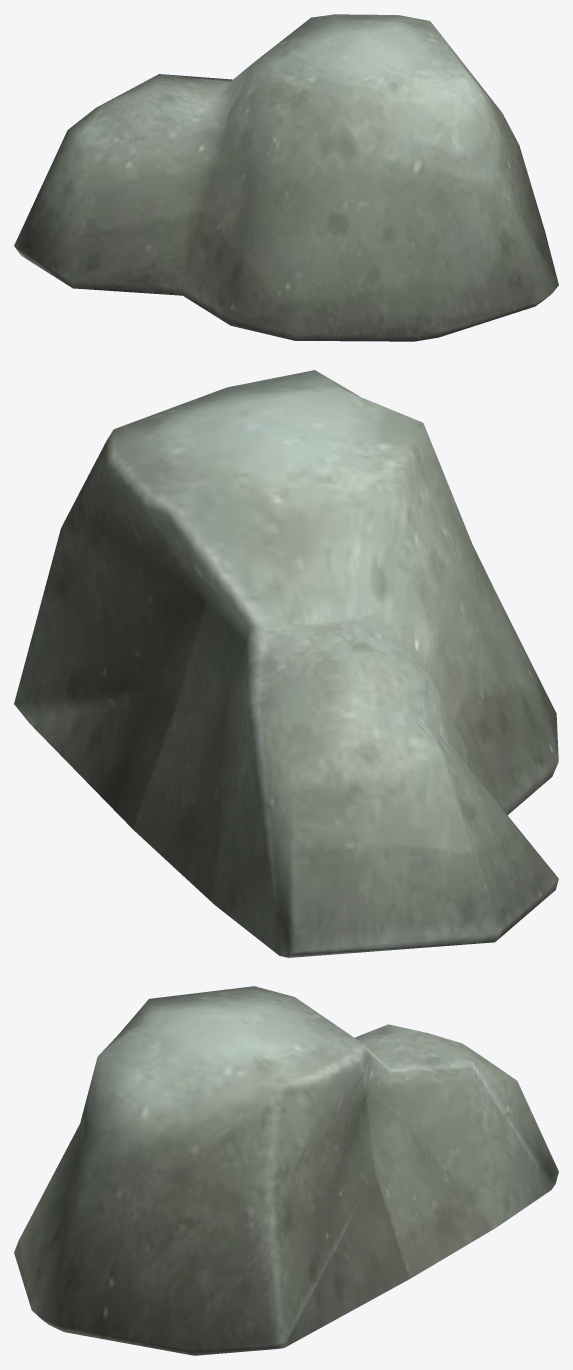
Rendered from rock-c.glb.
The picture shows the model from 3 angles, top to bottom: view 1: azimuth 30°, elevation 25°; view 2: azimuth 150°, elevation 25°; view 3: azimuth 270°, elevation 25°; orthographic projection. The views are drawn at different scales.
Parts seen in each view (by area): view 1: StoneC_node1; view 2: StoneC_node1; view 3: StoneC_node1.
Boxes of the visible parts, box(x1,y1,x2,y2) form: StoneC_node1: box(14, 14, 558, 341); StoneC_node1: box(14, 370, 558, 957); StoneC_node1: box(14, 986, 558, 1355).
Size of the model in its own units: 0.9819 by 0.5218 by 0.995.
Materials: 1 (1 with a texture image).
